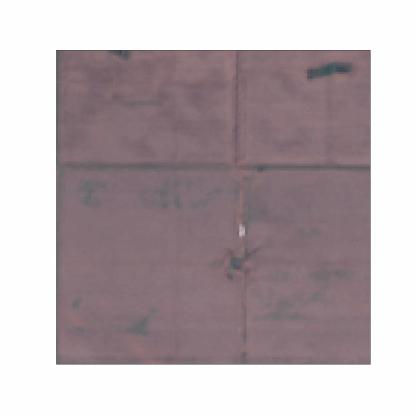silobolsa: (236, 222, 245, 239)
